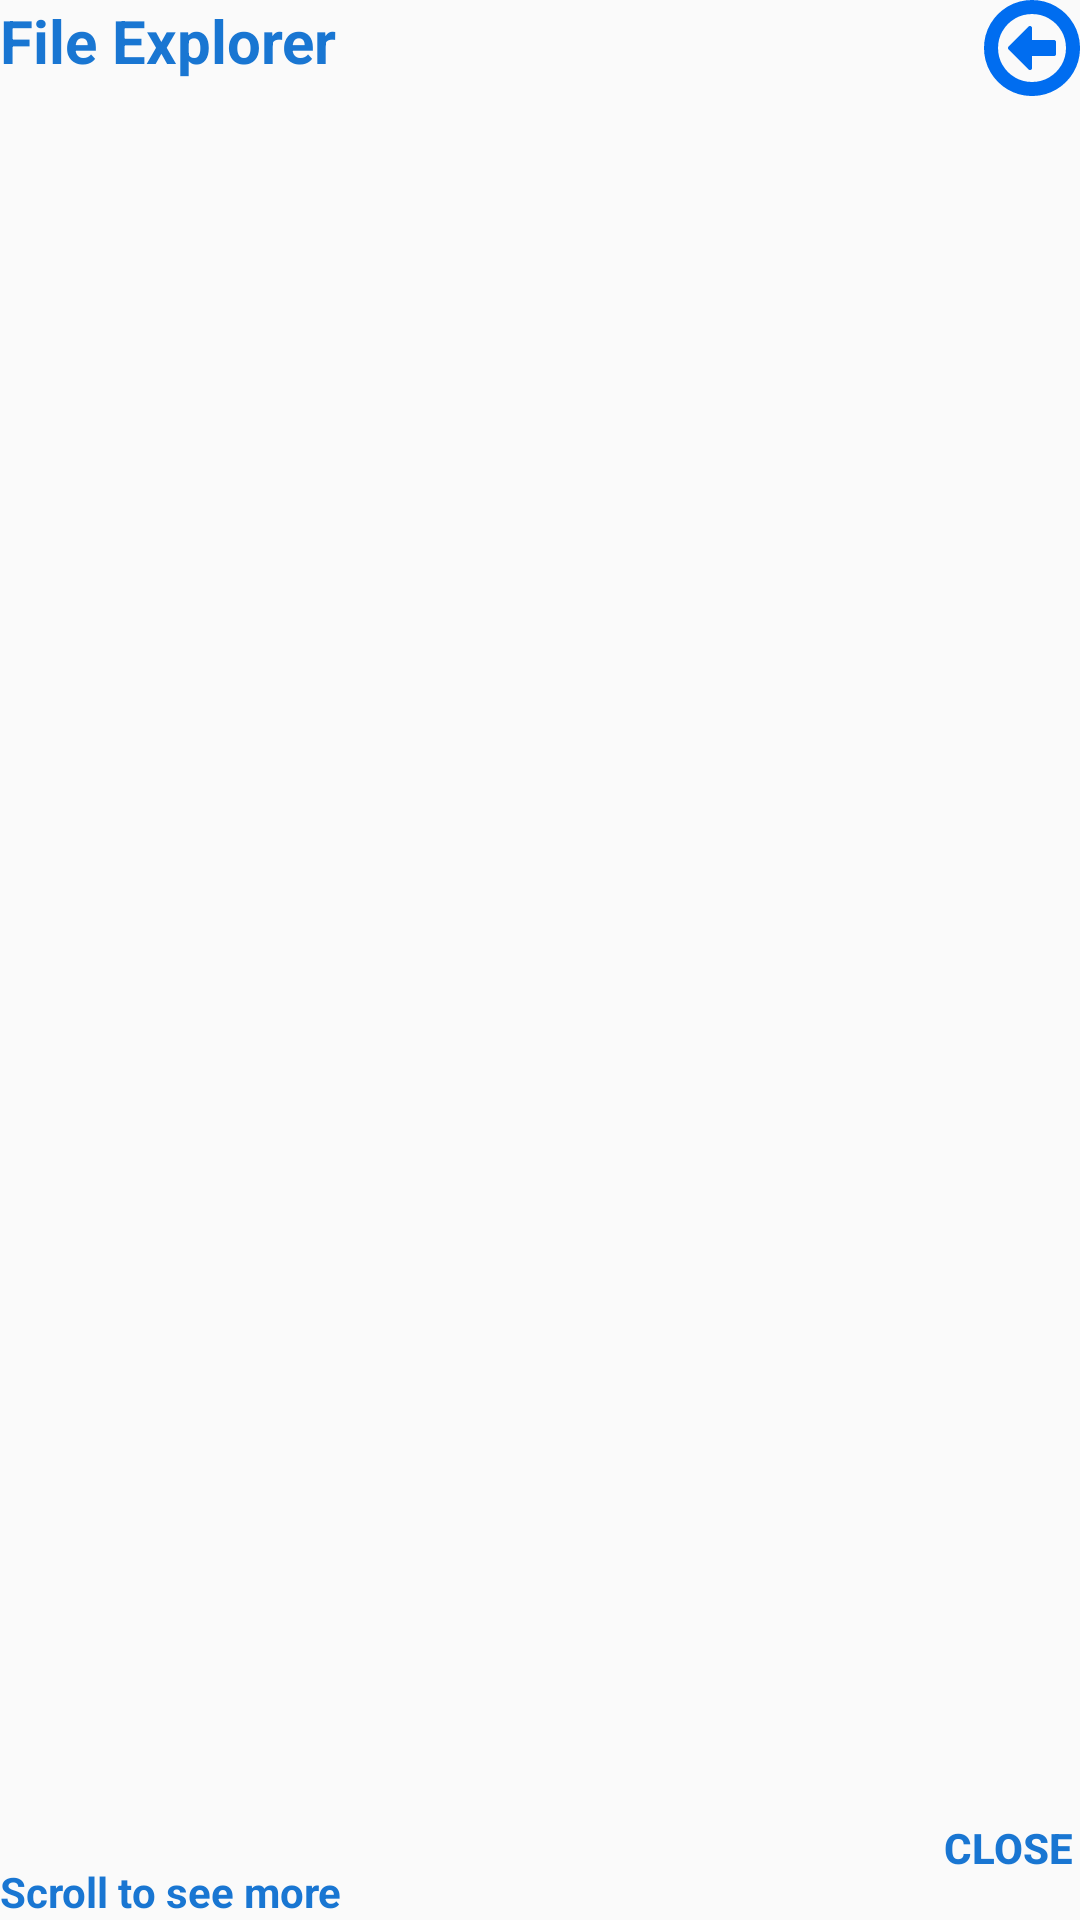

Icon click points for this 1080w x 1920h phone screenshot, format point (x, y):
back file explorer: point (1032, 48)
